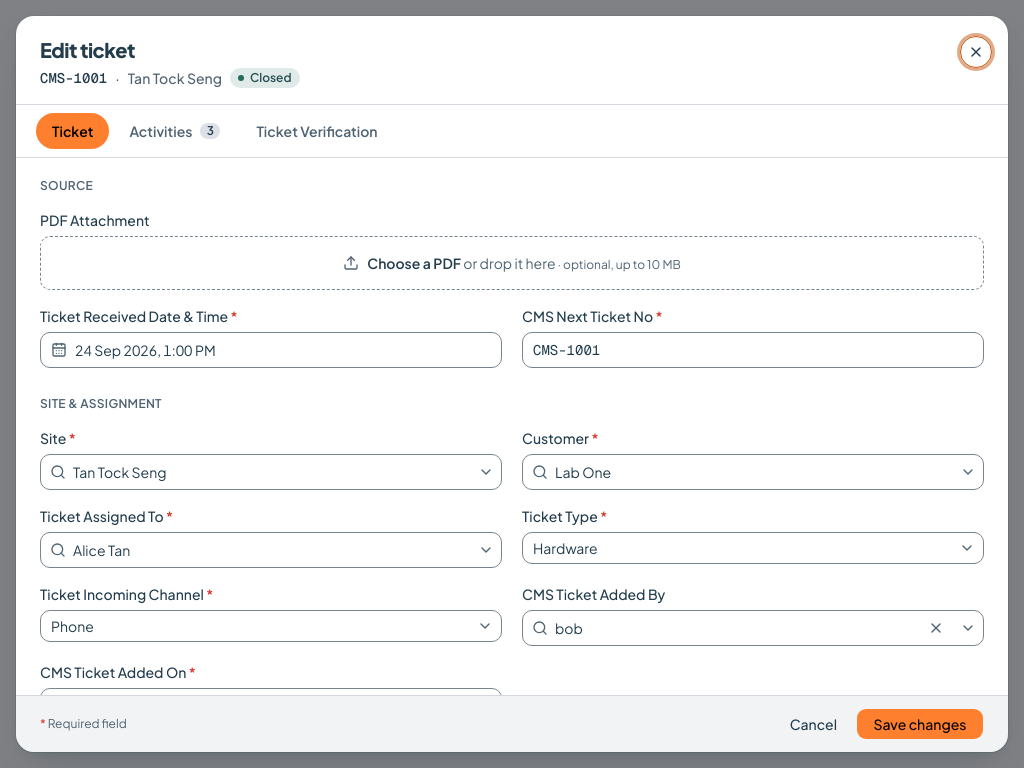
Test: overlapping time (409 confirmation) › warns inline when two activities with the same resolver overlap
Click the tab "Activities 3": (175, 131) x1=113 y1=113 x2=236 y2=149
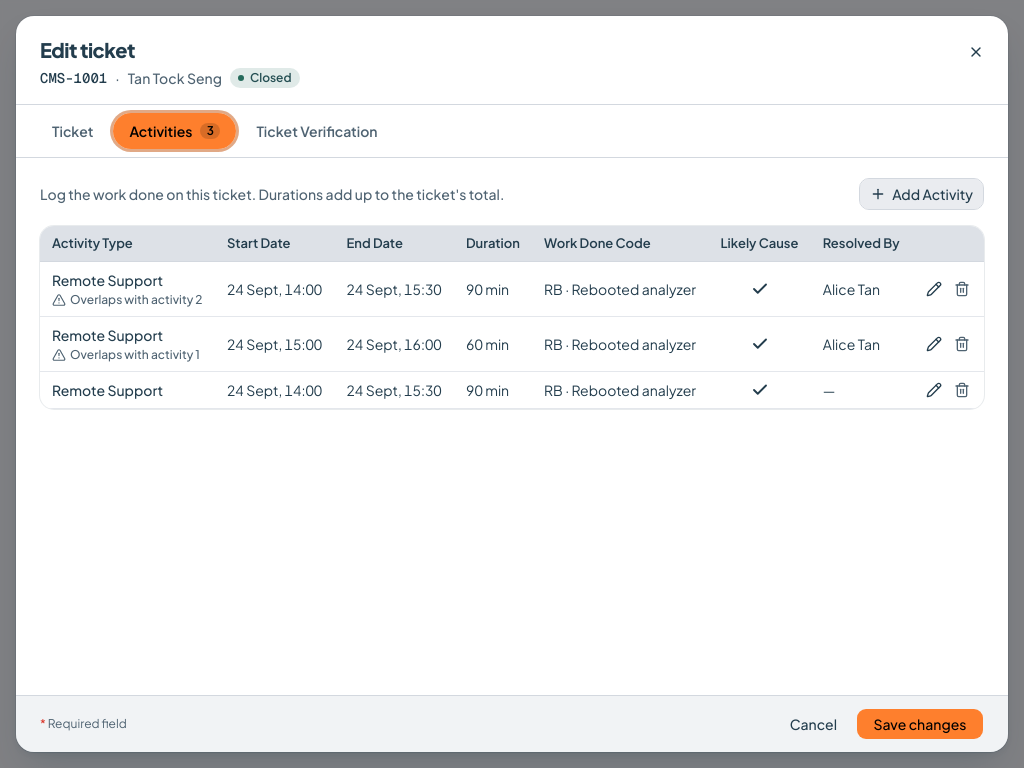
Result: the text "Overlaps with activity 2" is shown at x1=52 y1=292 x2=203 y2=308
Result: the text "Overlaps with activity 1" is shown at x1=52 y1=347 x2=203 y2=363
Result: the text "Overlaps with activity 2" is shown 2 times at x1=52 y1=292 x2=203 y2=308; x1=52 y1=347 x2=203 y2=363
